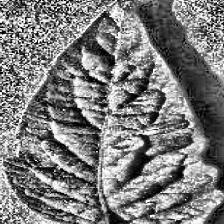spider mites: (4, 3, 224, 224)
